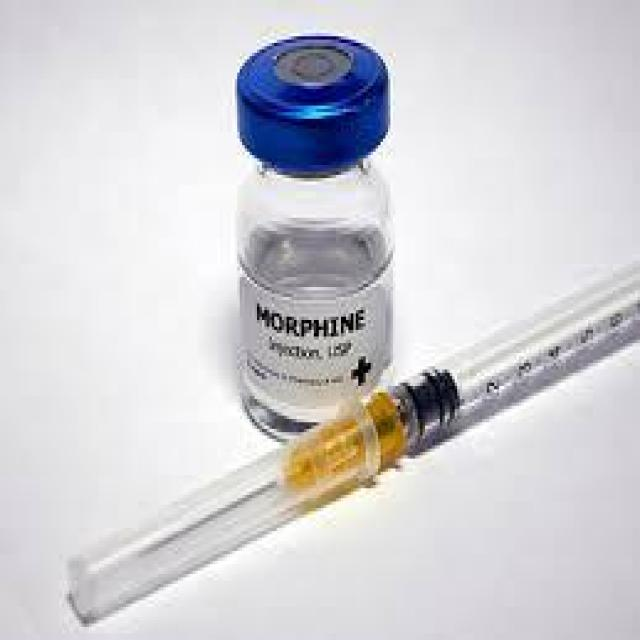B3: (210, 13, 403, 455)
